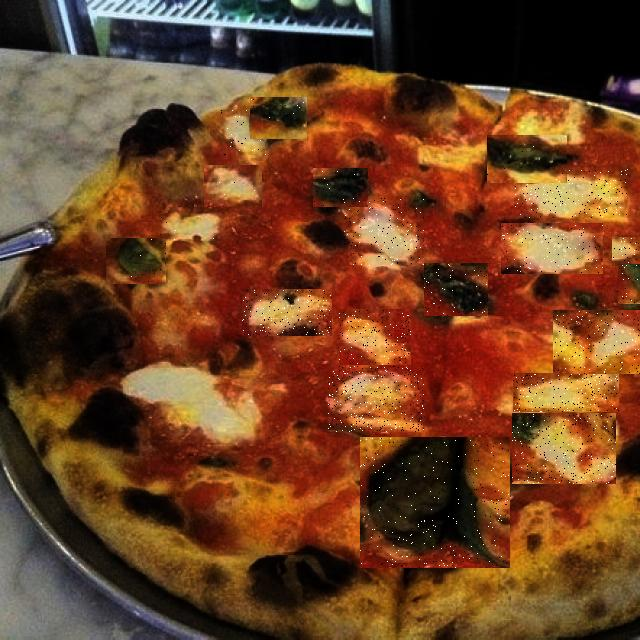Basil: (360, 438, 510, 568), (487, 136, 567, 183), (424, 264, 488, 316), (106, 239, 166, 284), (250, 98, 307, 139), (313, 169, 368, 207), (618, 264, 640, 304)
Cheese: (123, 356, 267, 456), (512, 414, 616, 484), (328, 366, 424, 432), (514, 169, 628, 218), (553, 311, 640, 374), (344, 198, 424, 266), (501, 224, 603, 274), (242, 290, 332, 336), (513, 374, 619, 412), (339, 310, 411, 365), (220, 108, 269, 158), (204, 166, 262, 207), (158, 206, 225, 241), (612, 238, 640, 266)
Pizza: (0, 64, 640, 639)
